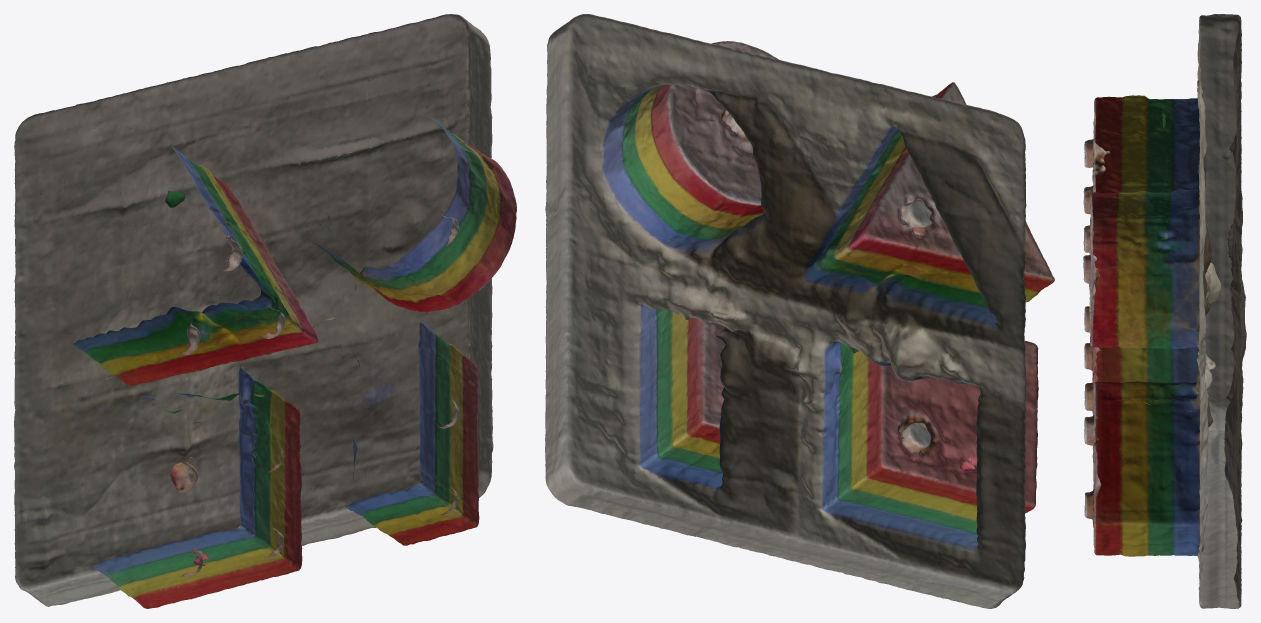
Rendered from sorting_board.glb.
3 views of the same model, side by side, from view 1: azimuth 30°, elevation 25°; view 2: azimuth 150°, elevation 25°; view 3: azimuth 270°, elevation 25° (orthographic). The views are drawn at different scales.
Bounding box in the file's own units: 1 × 0.99 × 0.3504.
